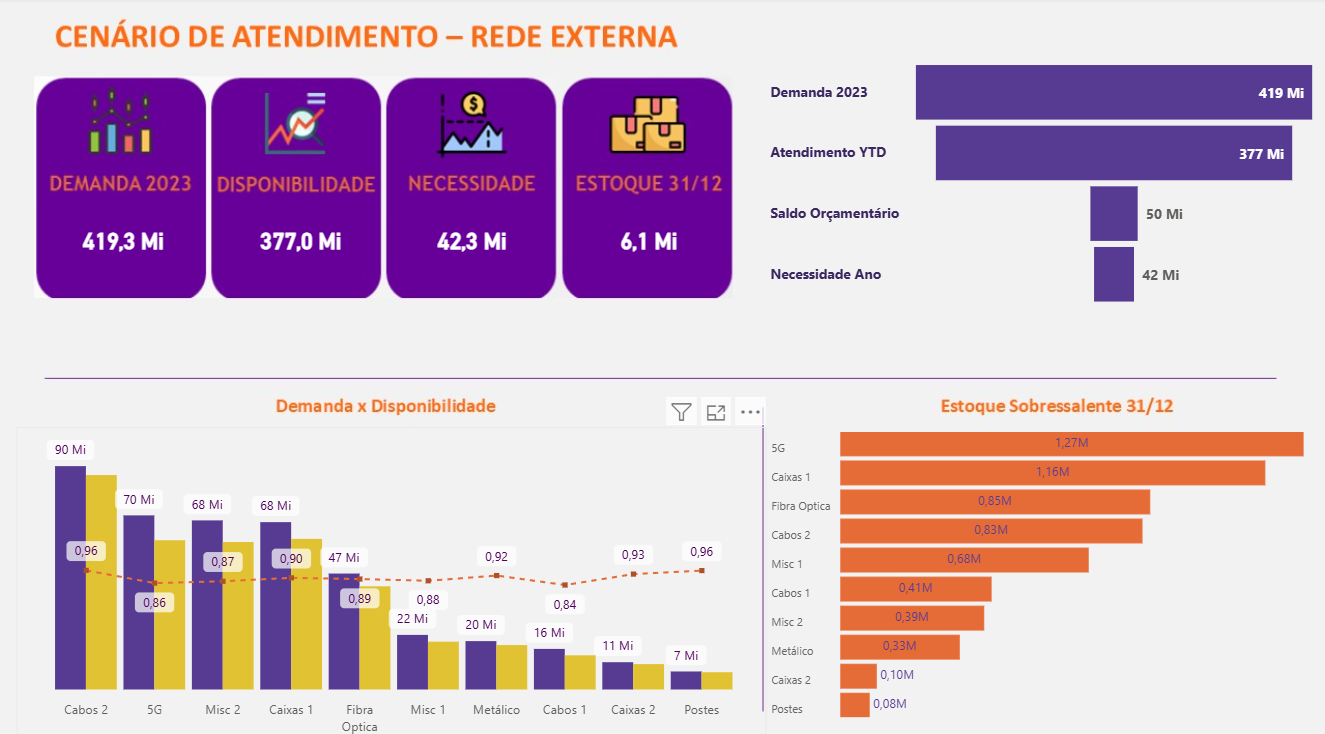

What the dashboard file says about the page in this screenshot:
{"tool":"powerbi","page":{"name":"2023","canvas":[1280,720],"ordinal":0},"visuals":[{"type":"lineClusteredColumnComboChart","fields":{"Y":["Sum(2023 (2).Demanda 2023)","Sum(2023 (2).Atendimento YTD)1"],"Category":["2023 (2).Segmento"],"Y2":["2023 (2).% ATENDIMENTO"]},"box":[17.2,415.4,723.1,304.6],"z":0},{"type":"funnel","fields":{"Y":["Sum(2023 (2).Demanda 2023)","Sum(2023 (2).Atendimento YTD)","Sum(2023 (2).Saldo CDG)","Sum(2023 (2).Necessidade Ano)"]},"box":[739.5,0,538.1,359.5],"z":1000},{"type":"TornadoChart1452517688218","fields":{"Values":["Sum(2023 (2).Estoque \"Sobra\")"],"Category":["2023 (2).Segmento"]},"box":[740.8,415,538.1,305.2],"z":2000},{"type":"card","fields":{"Values":["Sum(2023 (2).Demanda 2023)"]},"box":[54.3,202.7,131.5,65.1],"z":3000},{"type":"card","fields":{"Values":["Sum(2023 (2).Atendimento YTD)"]},"box":[225.6,202.7,131.5,65.1],"z":4000},{"type":"card","fields":{"Values":["Sum(2023 (2).Necessidade Ano)"]},"box":[390.9,202.7,131.5,65.1],"z":5000},{"type":"card","fields":{"Values":["Sum(2023 (2).Estoque \"Sobra\")"]},"box":[562.2,202.7,130.3,65.1],"z":6000}]}

Visuals, with their boxes in screenshot pixels (x1, y1, x2, y2), scaled from the page's 1280x720 canvas onto the 1325x734 screenshot:
lineClusteredColumnComboChart - Sum(2023 (2).Demanda 2023) x Sum(2023 (2).Atendimento YTD)1: {"x1": 18, "y1": 423, "x2": 766, "y2": 733}
funnel - Sum(2023 (2).Demanda 2023) x Sum(2023 (2).Atendimento YTD): {"x1": 765, "y1": 0, "x2": 1323, "y2": 366}
TornadoChart1452517688218 - Sum(2023 (2).Estoque "Sobra") x 2023 (2).Segmento: {"x1": 767, "y1": 423, "x2": 1324, "y2": 733}
card - Sum(2023 (2).Demanda 2023): {"x1": 56, "y1": 207, "x2": 192, "y2": 273}
card - Sum(2023 (2).Atendimento YTD): {"x1": 234, "y1": 207, "x2": 370, "y2": 273}
card - Sum(2023 (2).Necessidade Ano): {"x1": 405, "y1": 207, "x2": 541, "y2": 273}
card - Sum(2023 (2).Estoque "Sobra"): {"x1": 582, "y1": 207, "x2": 717, "y2": 273}
